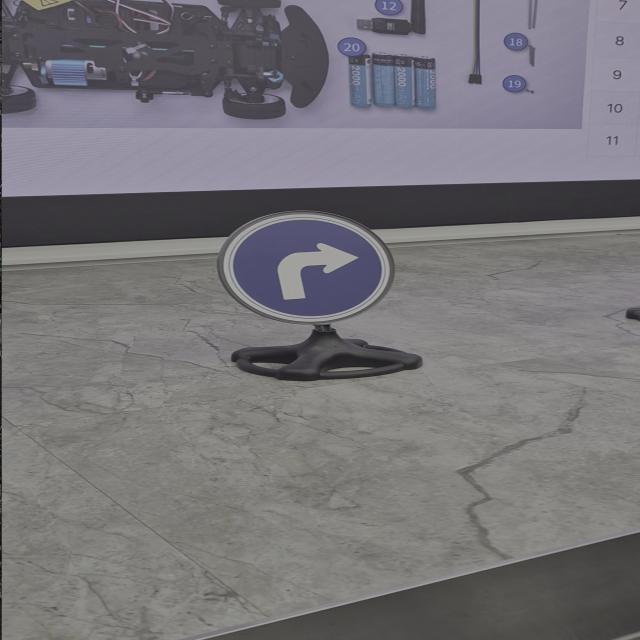right_dierection: (191, 198, 420, 334)
